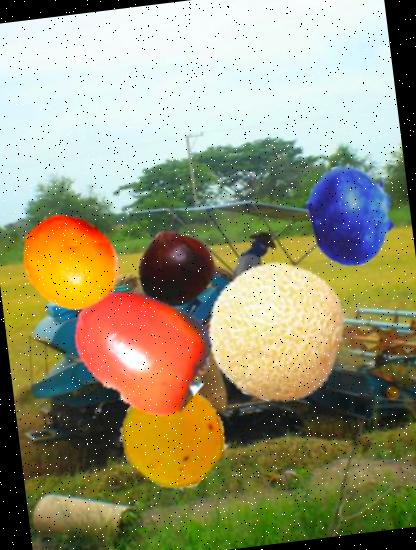Cantaloupe: (198, 252, 354, 409)
Chestnut: (132, 222, 222, 312)
Grape: (115, 378, 230, 492)
Huckleberry: (295, 158, 409, 272)
Kaki: (64, 268, 222, 425)
Lemon: (13, 206, 128, 320)
